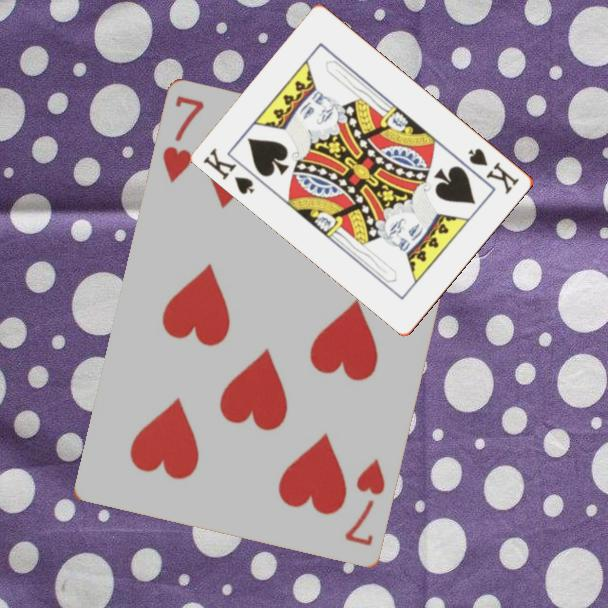h07: (159, 93, 208, 187), (341, 455, 389, 550)
s13: (200, 144, 258, 197), (465, 145, 522, 197)
